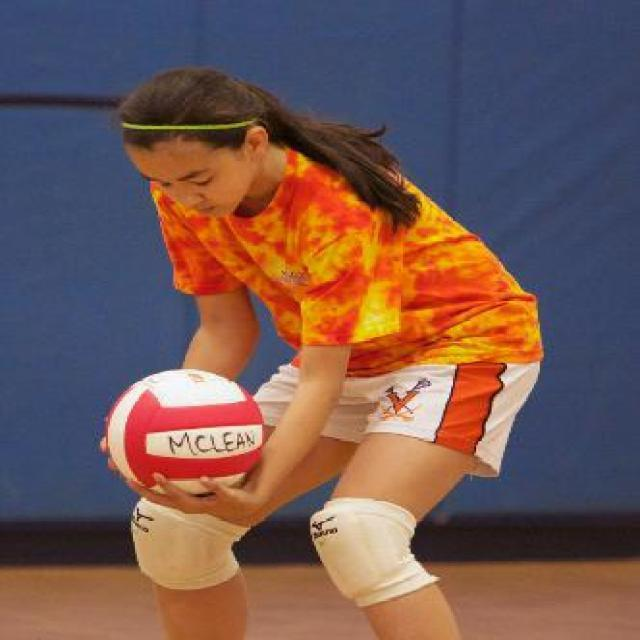volleyball: (105, 368, 264, 496)
